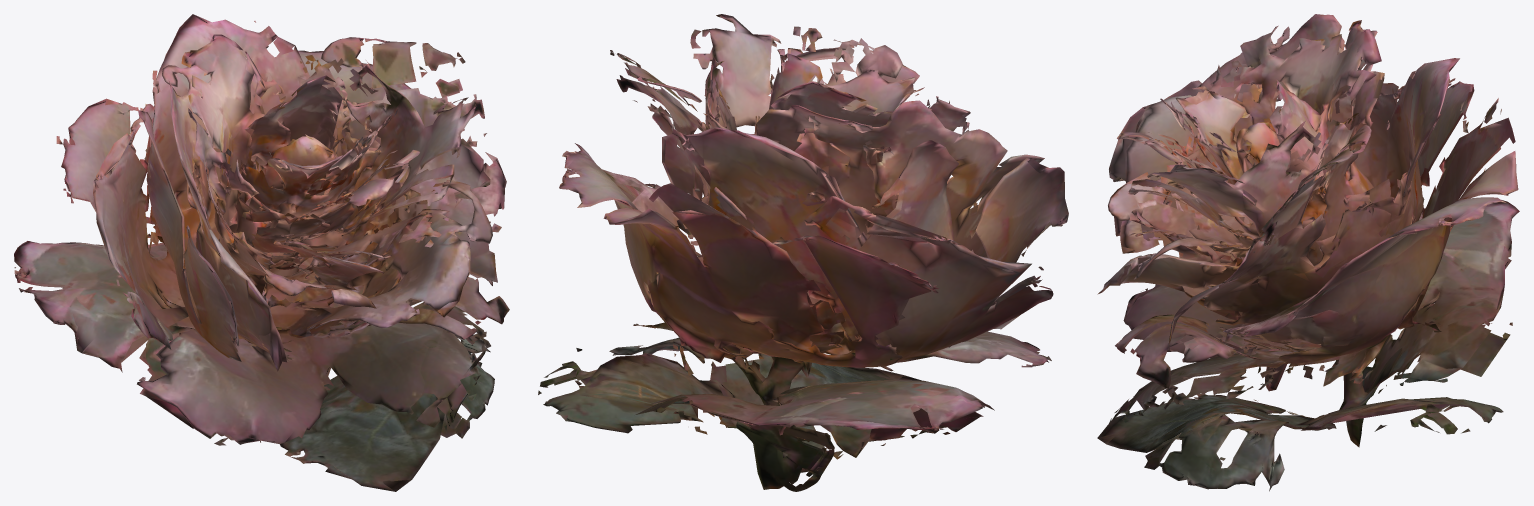
Rendered from Rose_flower_with_dyna_0126042525_texture.glb.
3 renders of one model, left to right at view 1: azimuth 30°, elevation 25°; view 2: azimuth 150°, elevation 25°; view 3: azimuth 270°, elevation 25°, orthographic. The views are drawn at different scales.
Bounding box in the file's own units: 1.95 × 1.75 × 1.7.
Materials: 1 (1 with a texture image).
